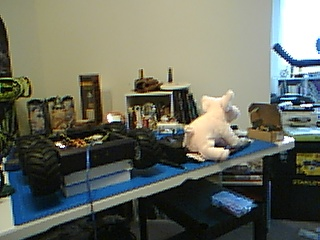piggy: (181, 89, 245, 163)
